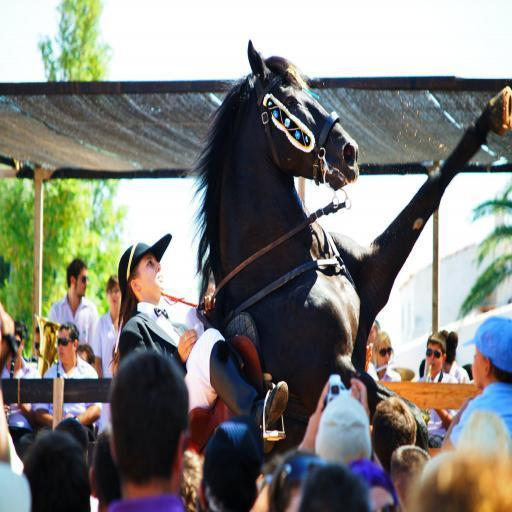horse: (182, 36, 512, 454)
